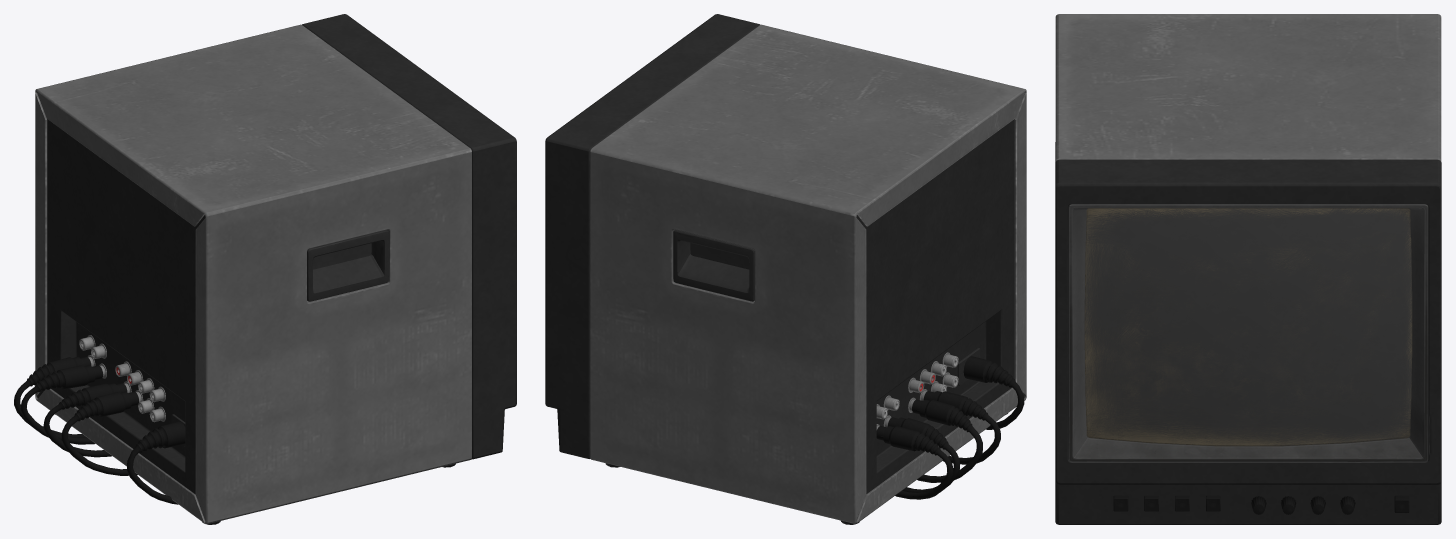
The picture shows the model from 3 angles, left to right: view 1: azimuth 30°, elevation 25°; view 2: azimuth 150°, elevation 25°; view 3: azimuth 270°, elevation 25°; orthographic projection. The views are drawn at different scales.
Parts seen in each view (by area): view 1: TV_CCTV_02; view 2: TV_CCTV_02; view 3: TV_CCTV_02.
Part boxes in pixels (bbox=[...]): TV_CCTV_02: bbox=[14, 14, 516, 524]; TV_CCTV_02: bbox=[545, 14, 1026, 524]; TV_CCTV_02: bbox=[1055, 14, 1441, 524].
Size of the model in its own units: 0.4849 by 0.4023 by 0.3904.
Materials: 2 (2 with a texture image).
